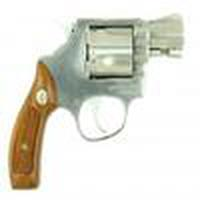gun: (2, 10, 186, 194)
